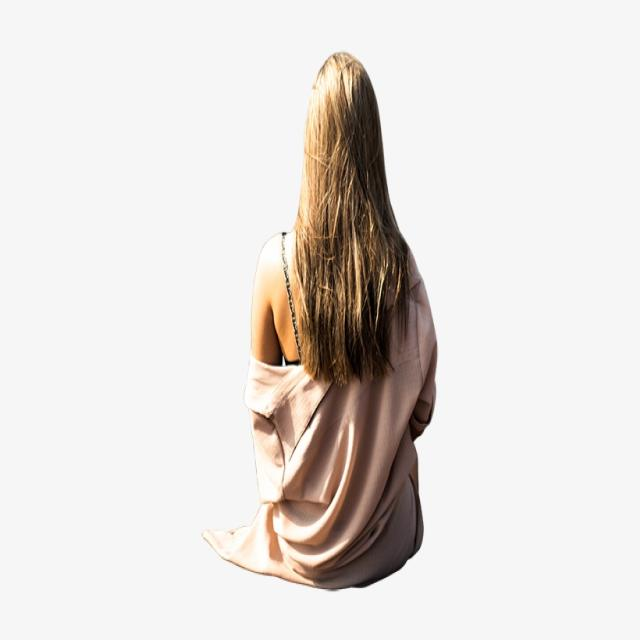adult: (222, 51, 444, 595)
